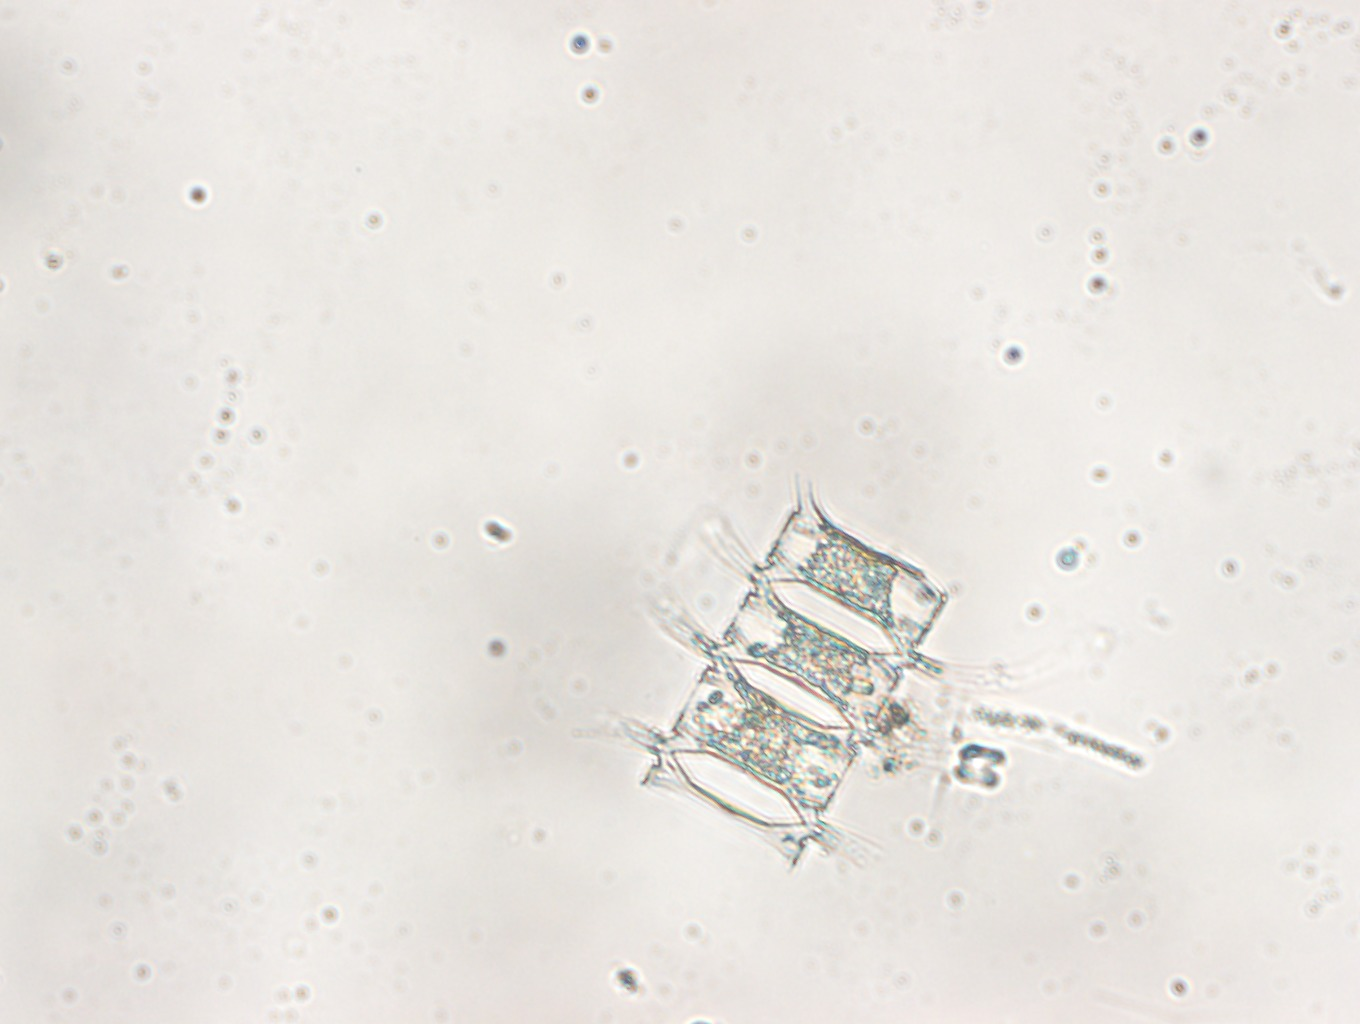chaetoceros: (605, 467, 1018, 870)
